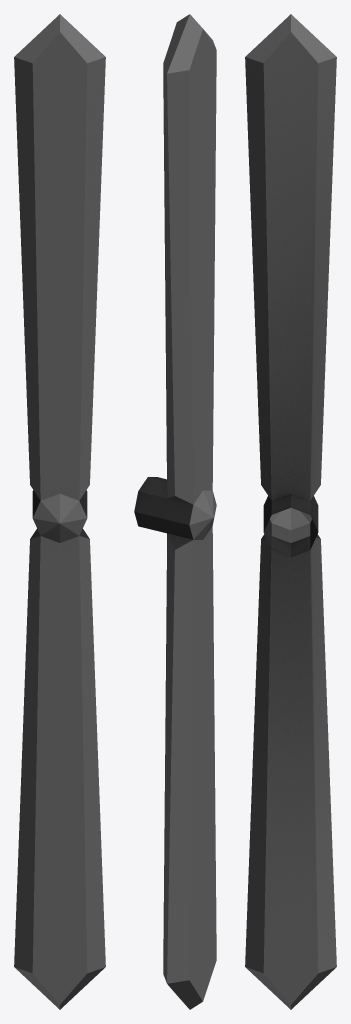
Rendered from Helicopter_2_Vane2.fbx.
3 views of the same model, side by side, from view 1: azimuth 90°, elevation 25°; view 2: azimuth 150°, elevation 25°; view 3: azimuth 270°, elevation 25° (orthographic).
Visible parts, largest first — view 1: polySurface2; view 2: polySurface2; view 3: polySurface2.
Boxes of the visible parts, bbox=[...] form: polySurface2: bbox=[14, 14, 105, 1009]; polySurface2: bbox=[134, 14, 216, 1009]; polySurface2: bbox=[245, 14, 336, 1009].
Bounding box in the file's own units: 0.3377 × 4.89 × 0.4088.
